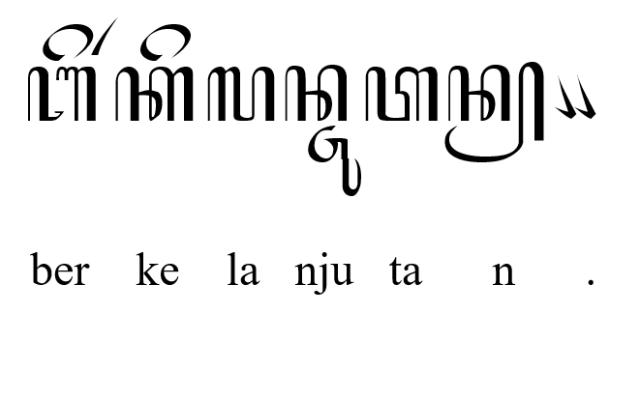-n: (443, 61, 545, 163)
_ju: (306, 126, 362, 198)
_r1: (92, 16, 118, 56)
b: (28, 66, 98, 122)
e: (138, 22, 192, 62), (42, 23, 94, 61)
k: (114, 66, 196, 126)
kom: (552, 75, 576, 119), (573, 75, 597, 119)
l: (206, 66, 276, 122)
n: (284, 64, 348, 124)
t: (363, 66, 439, 122)
